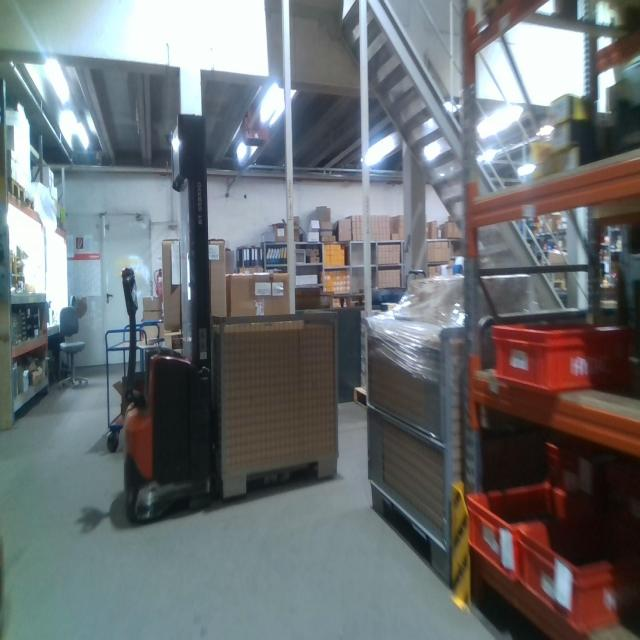pallet: (7, 174, 25, 202), (23, 190, 36, 211)
pallet_truck: (116, 88, 226, 531)
small_load_carrier: (518, 505, 639, 632), (463, 476, 575, 576), (491, 321, 632, 394)
stillage: (360, 313, 463, 593), (210, 303, 341, 506)
